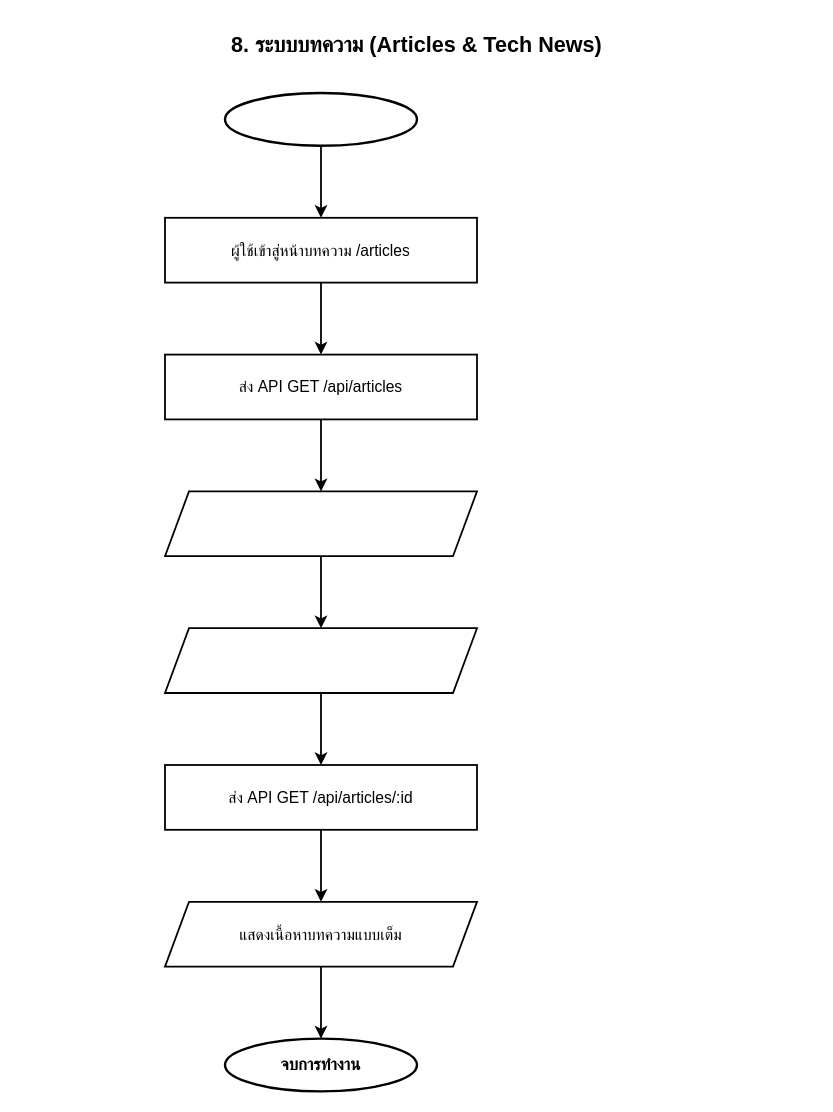
The diagram is 833 pixels wide and 1112 high, and some of its shapes have lost their labels. The centre of each missing label's shape, as x and y in pixels:
คลิกเลือกบทความที่สนใจ: point (320, 660)
เริ่มต้น: point (320, 118)
แสดงรายการการ์ดข่าวสารไอที: point (320, 523)
